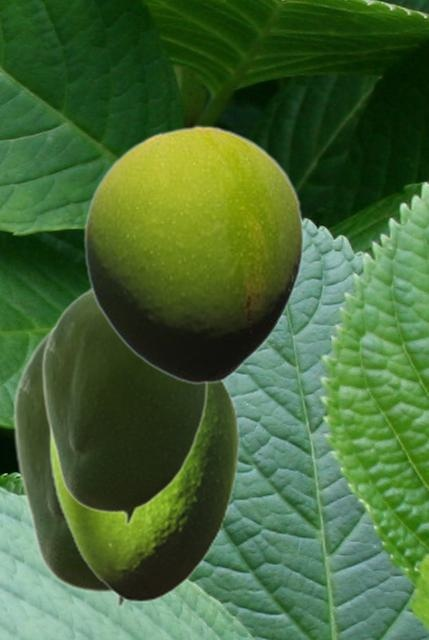green_mango: (83, 125, 304, 384), (48, 380, 239, 601), (40, 287, 207, 525), (11, 326, 129, 608)
